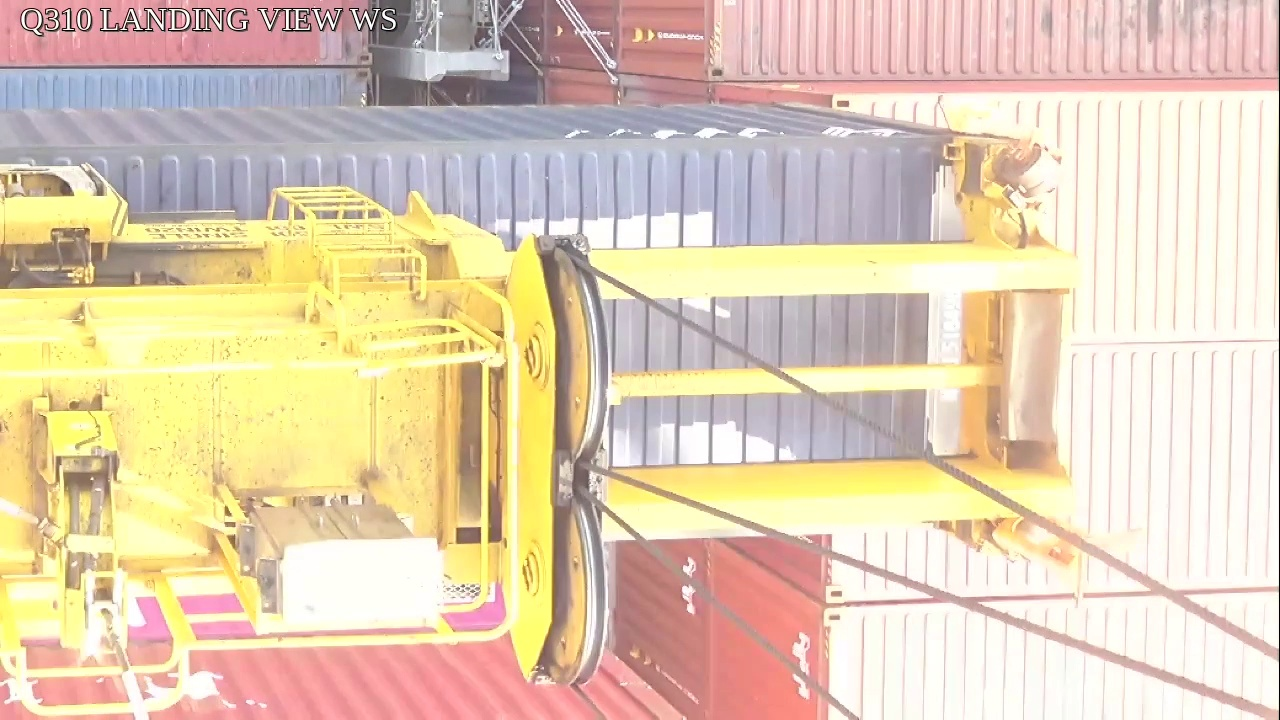right: (504, 236, 614, 693)
